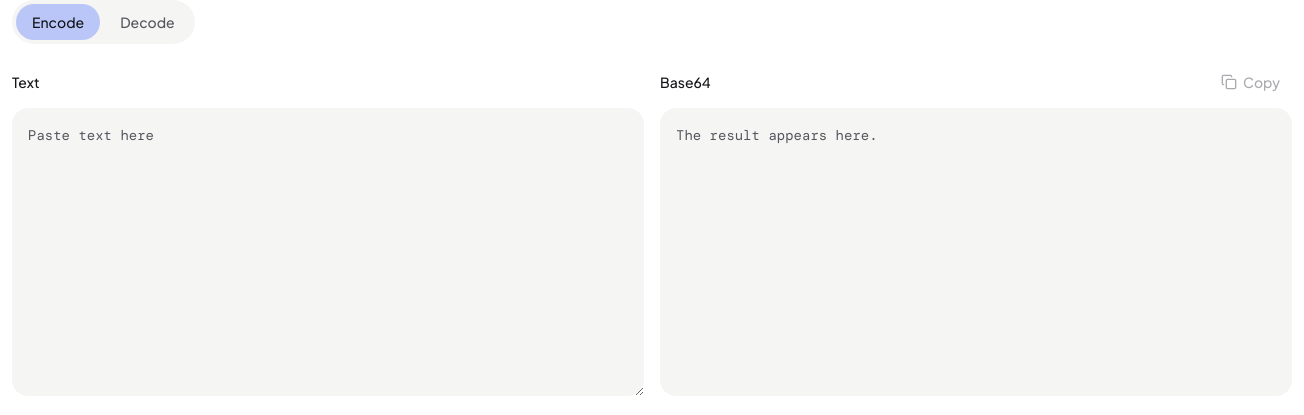
it: <Base64Tool /> › should explain invalid input when decoding
Click the button "Decode". click: click(147, 22)
box: [104,4,191,40]
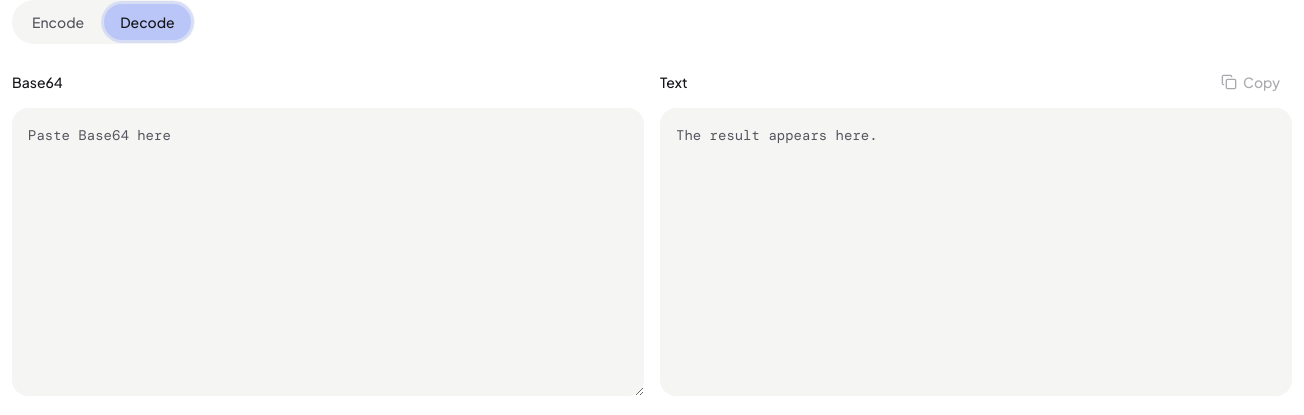
Type "not base64!!" into the text box with placeholder "Paste Base64 here". click: (328, 252)
box: [12,108,644,396]
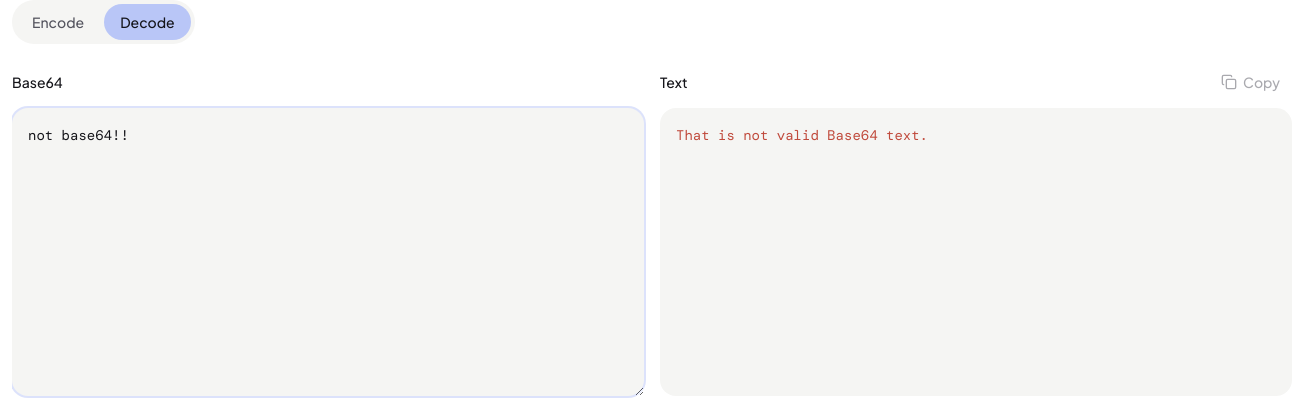
Now the text "That is not valid Base64 text." is shown, box [676,126,928,144]
